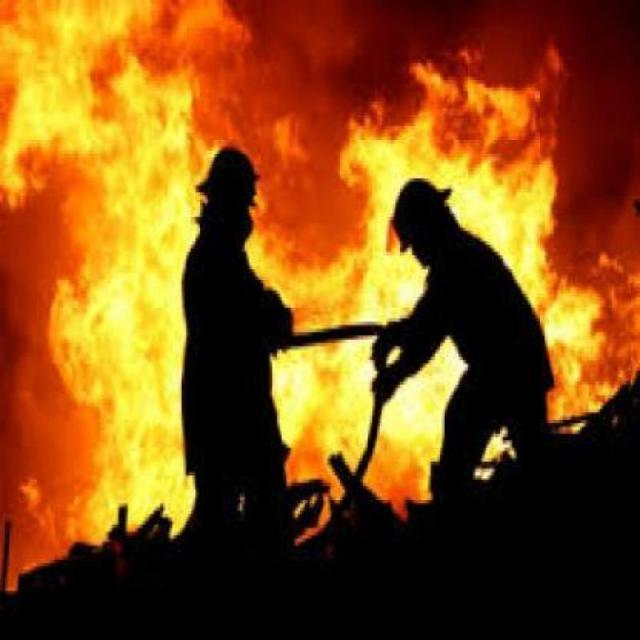Fire: (0, 19, 640, 534)
